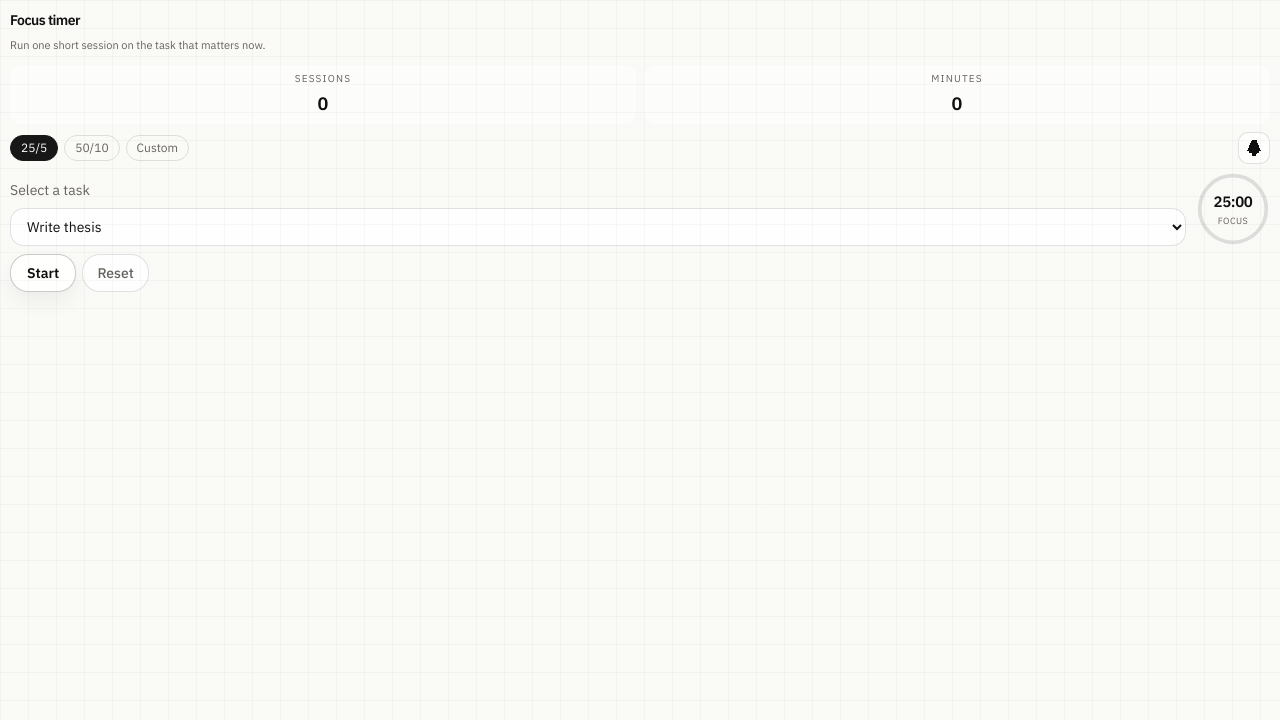
Test: FocusTimer › keeps the current remaining time after pausing
Click the button "Start" at (43, 273), box [10,254,76,292]
Wait 65000 ms
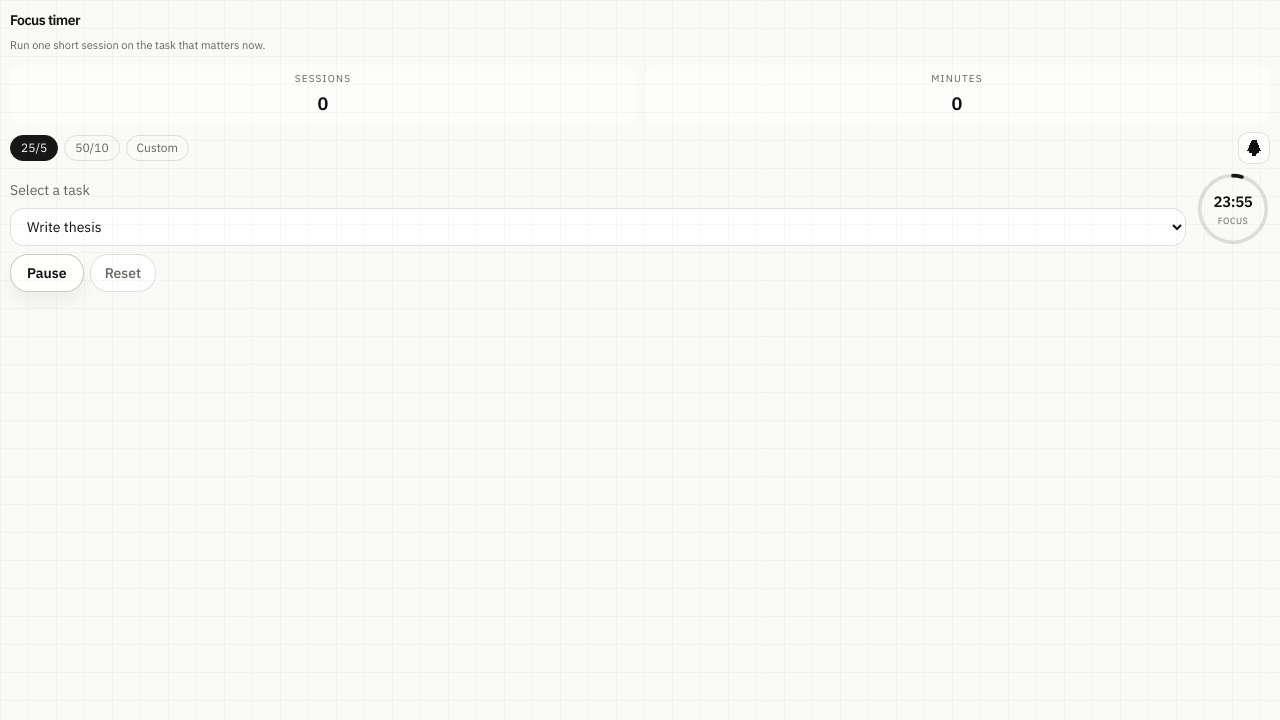
Click the button "Pause" at (47, 273), box [10,254,84,292]
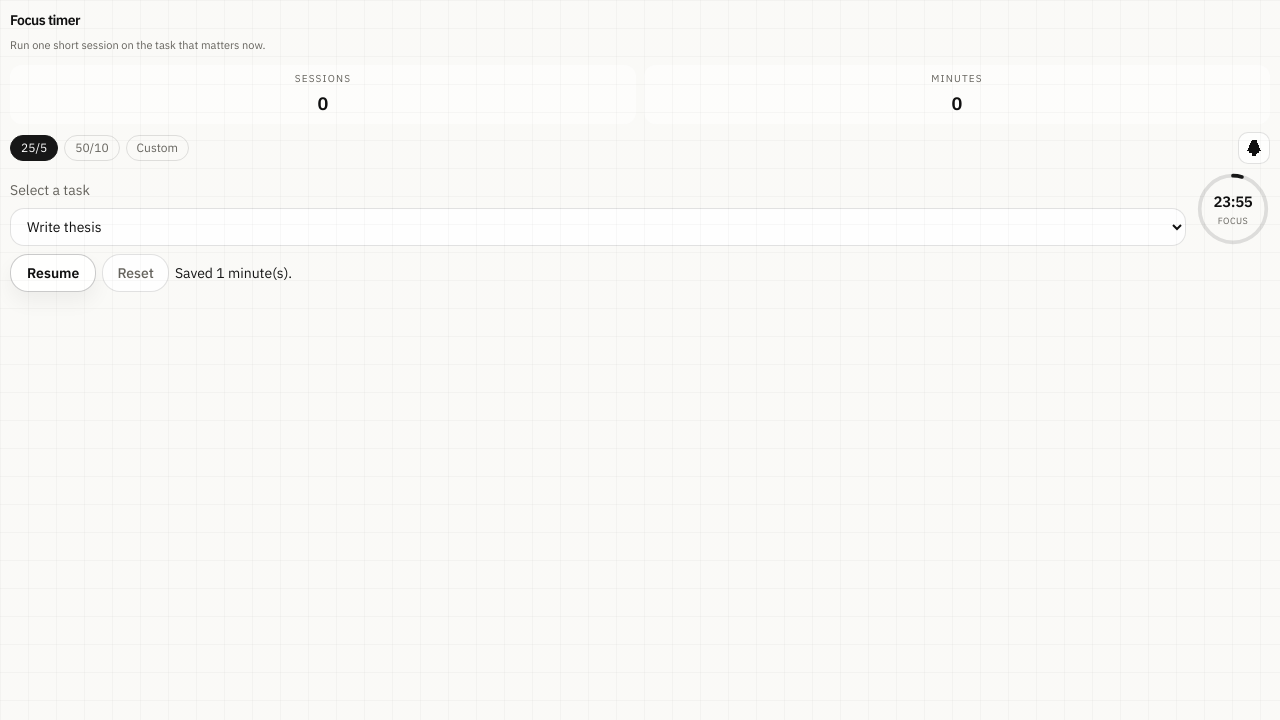
Expected: the text "25:00" is not shown
Now the text "23:55" is shown, box [1214,191,1252,214]
Now the button "Resume" is shown, box [10,254,96,292]
